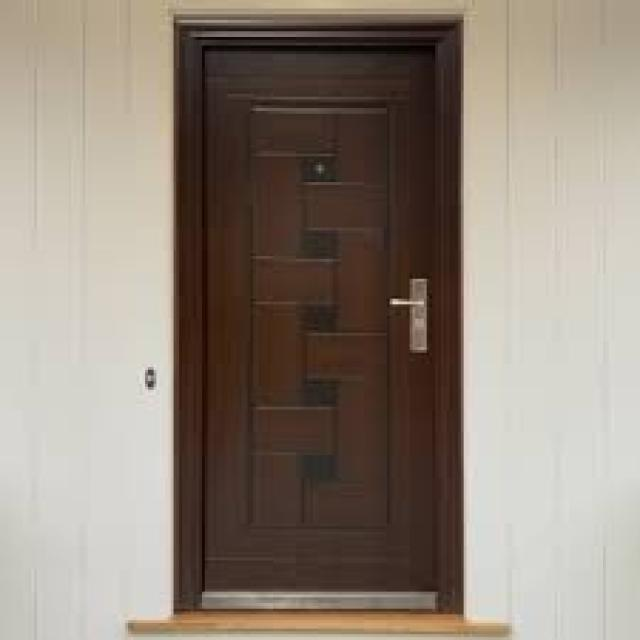door: (193, 36, 452, 607)
